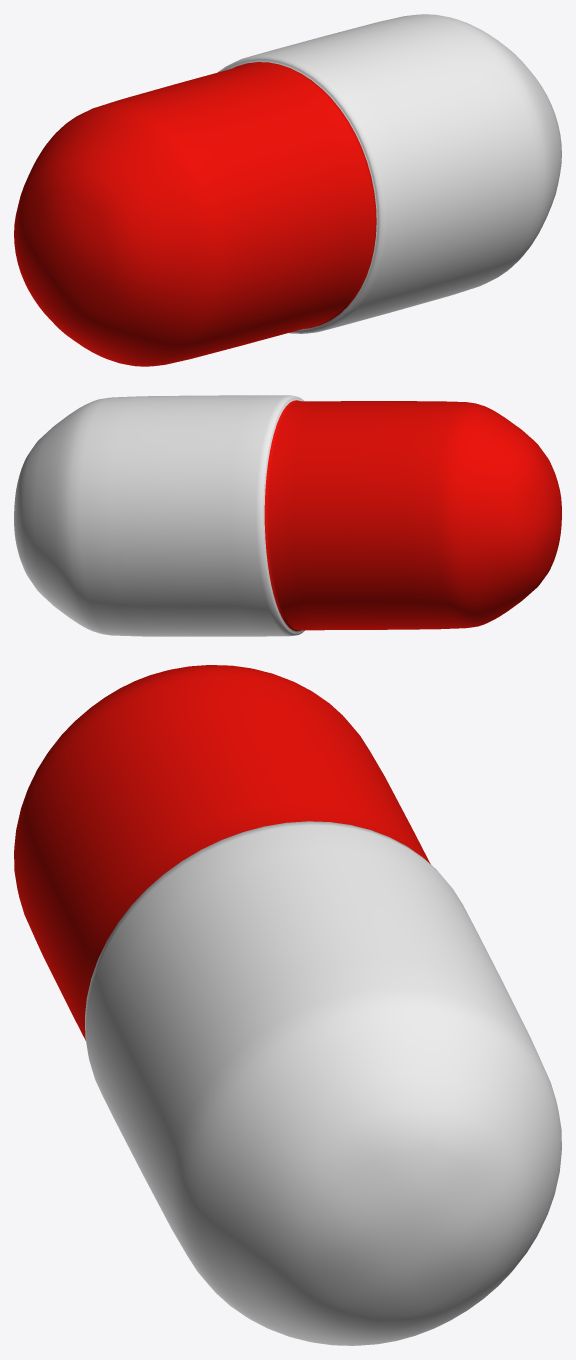
File: redpill.glb
3 views of the same model, one above another, from view 1: azimuth 30°, elevation 25°; view 2: azimuth 150°, elevation 25°; view 3: azimuth 270°, elevation 25° (orthographic). The views are drawn at different scales.
Parts seen in each view (by area): view 1: Cylinder; view 2: Cylinder; view 3: Cylinder.
Part boxes in pixels (bbox=[...]): Cylinder: bbox=[14, 14, 561, 366]; Cylinder: bbox=[14, 395, 561, 636]; Cylinder: bbox=[14, 665, 561, 1345].
Bounding box in the file's own units: 0.3376 × 0.1695 × 0.1995.
